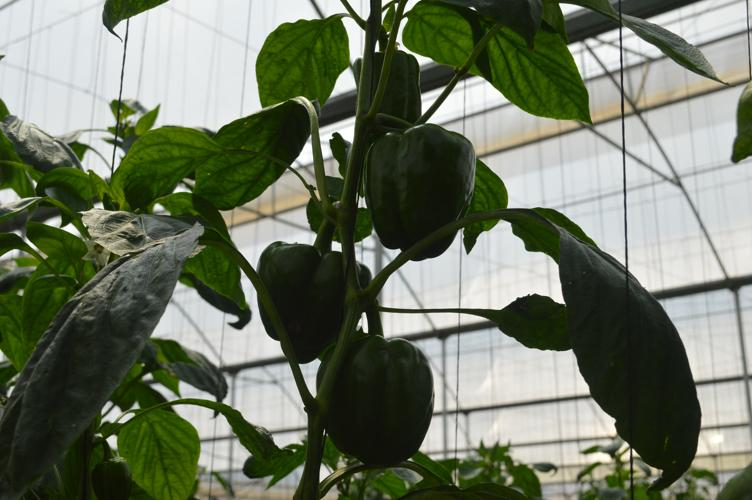BellPepper: (360, 125, 482, 261), (249, 241, 380, 360), (318, 335, 435, 462), (358, 51, 427, 129)
